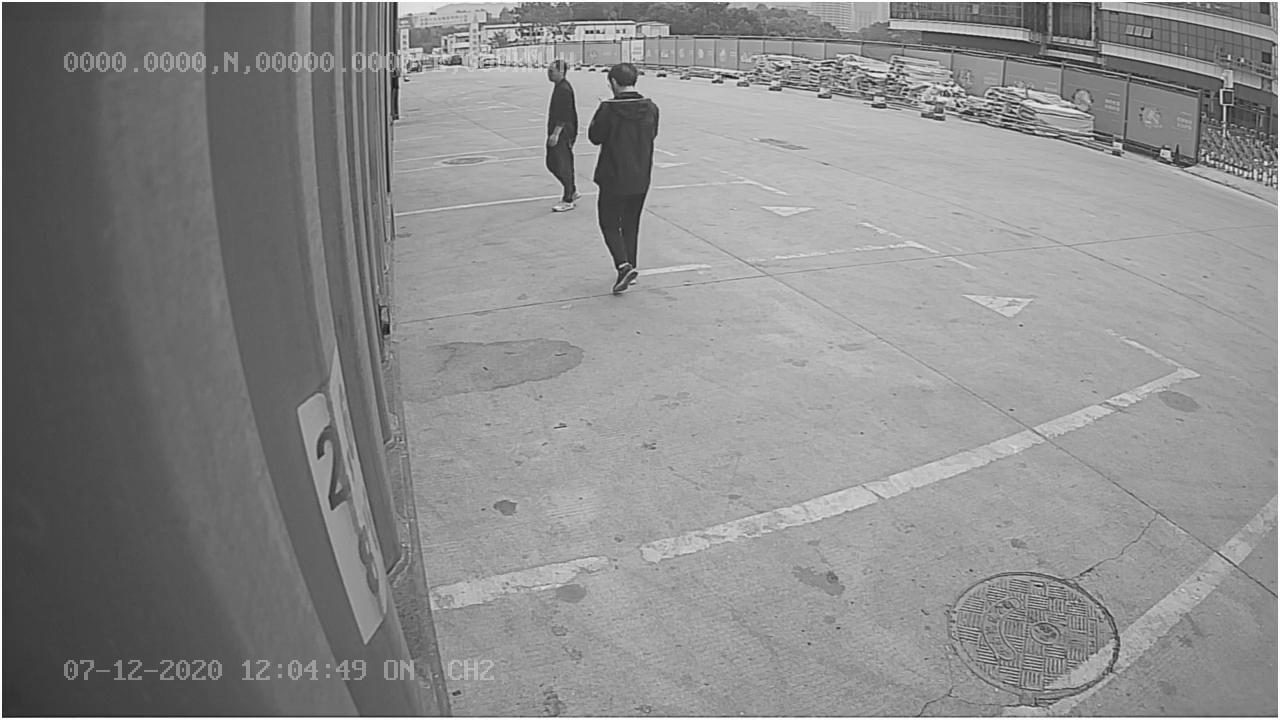person: (587, 61, 661, 295)
